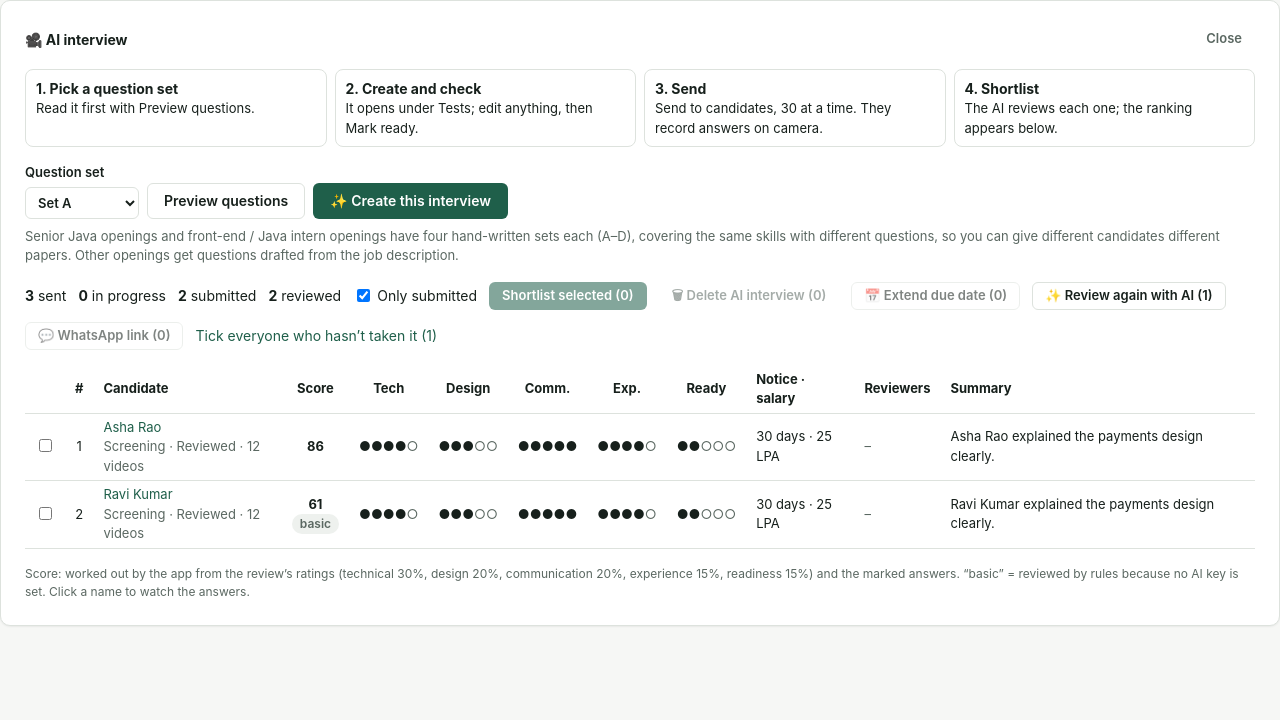
Test: AiInterviewPanel (AINT-07) › ranks reviewed candidates and shortlists the ones picked
Expected: the table named "AI interview ranking" shows "Asha Rao", left=103, top=418, right=161, bottom=437
Expected: the table named "AI interview ranking" shows "86", left=307, top=438, right=324, bottom=454
Click the checkbox labelled "Only submitted". click: (364, 296)
box: left=357, top=289, right=370, bottom=302
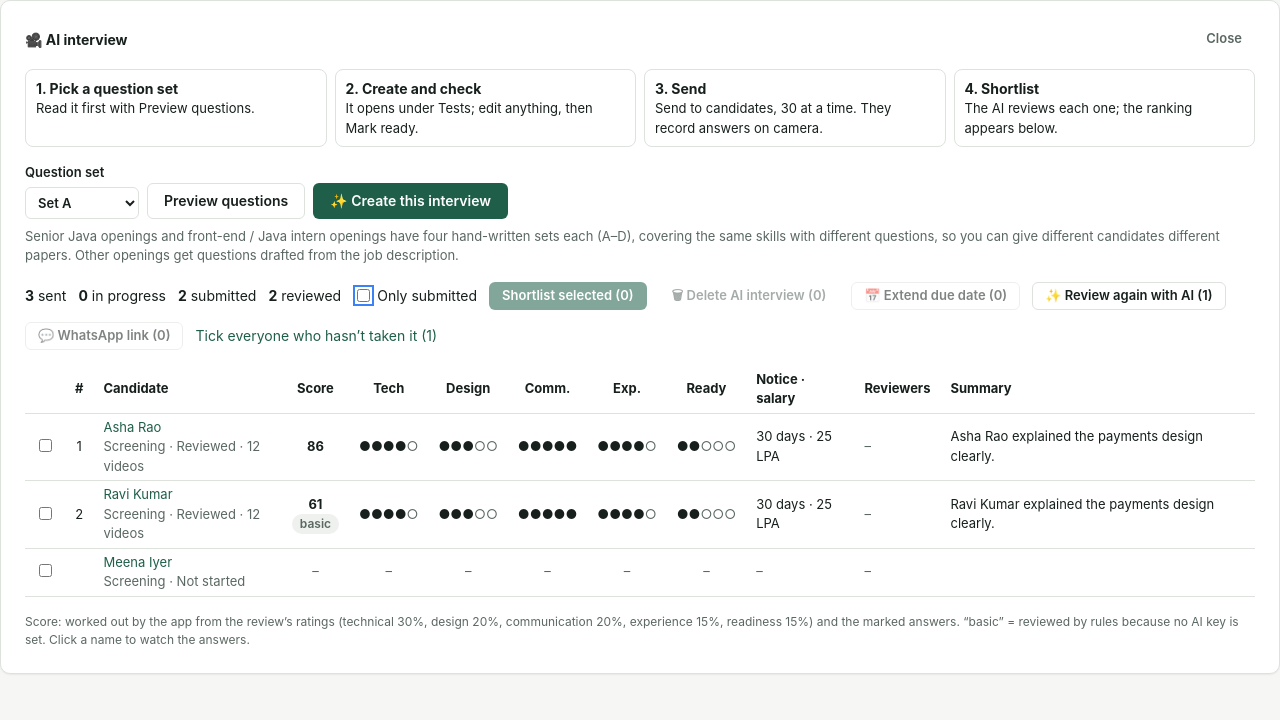
Now the table named "AI interview ranking" shows "Meena Iyer", box left=103, top=552, right=172, bottom=572
Click the button "Asha Rao". click: (132, 427)
box: left=103, top=418, right=161, bottom=437
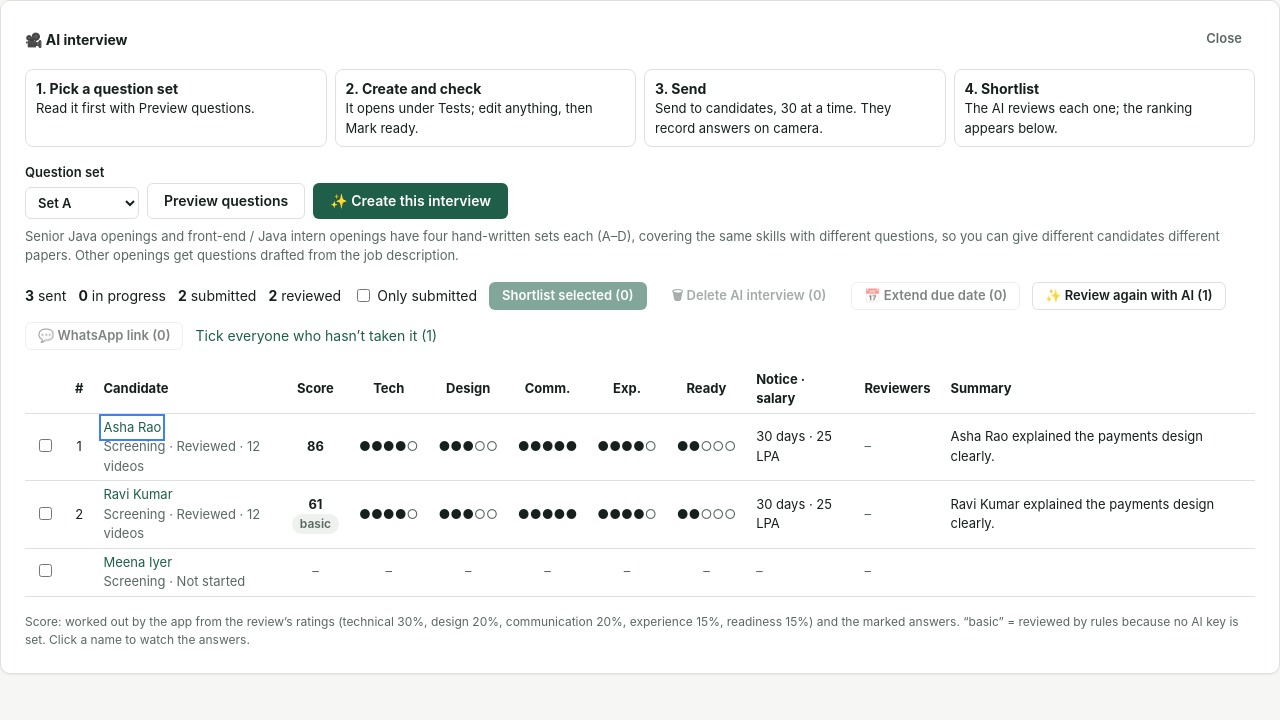
Click the checkbox named "Select Asha Rao". click: (46, 446)
box: left=39, top=439, right=52, bottom=452
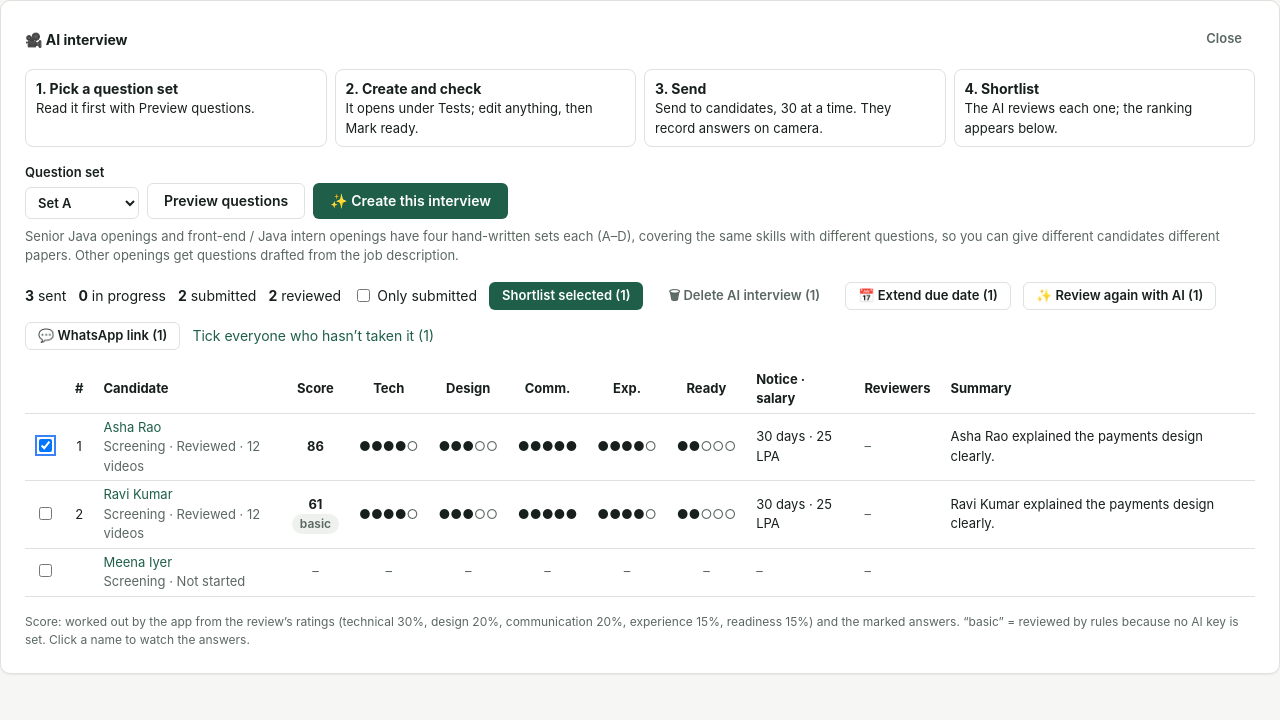
Click the button "Shortlist selected (1)". click: (566, 296)
box: left=489, top=282, right=644, bottom=310
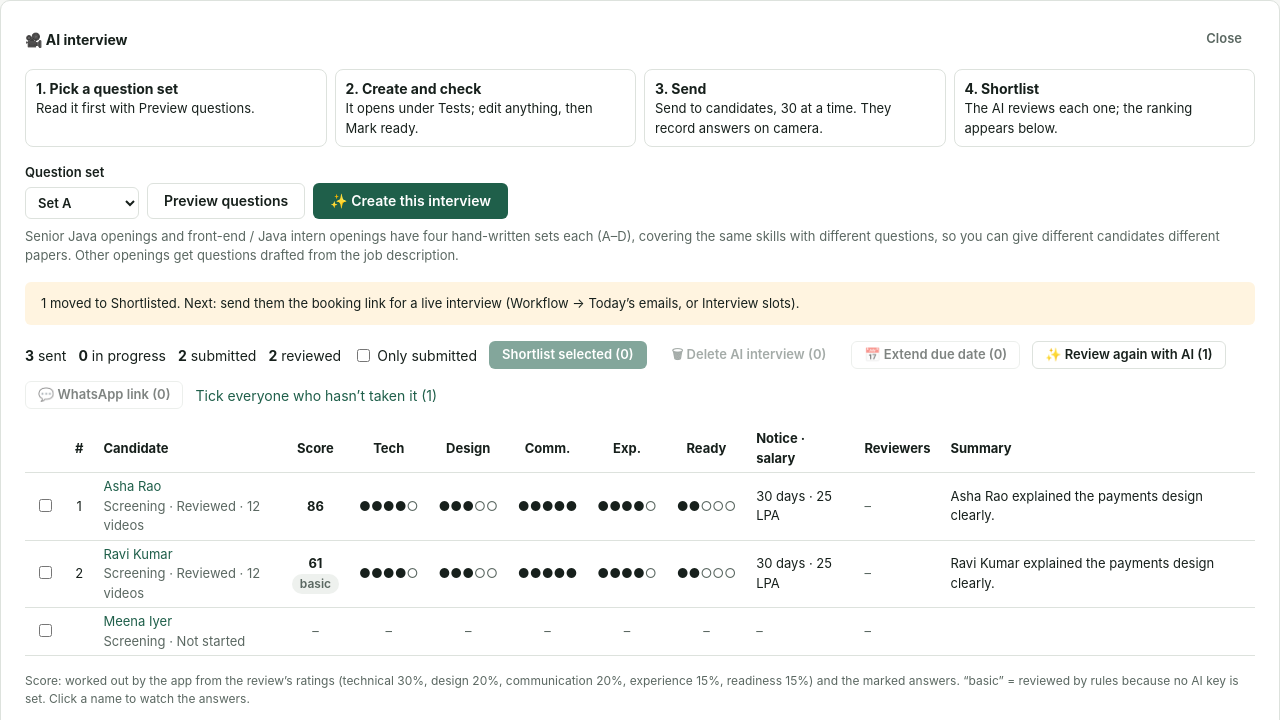
Now the text "1 moved to Shortlisted" is shown, box left=41, top=294, right=799, bottom=310
